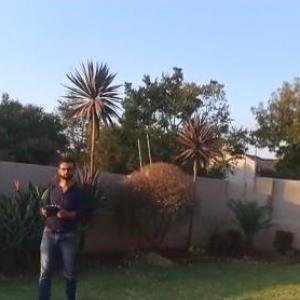follow: (28, 148, 93, 299)
